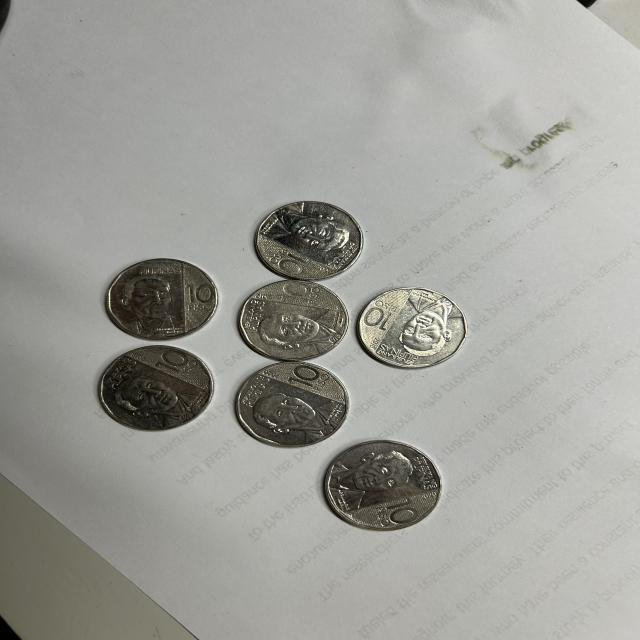10_New_Front: (358, 495, 419, 536), (277, 358, 332, 402), (366, 292, 402, 338), (263, 247, 311, 276), (182, 280, 218, 317), (277, 280, 318, 307), (150, 350, 186, 380)
